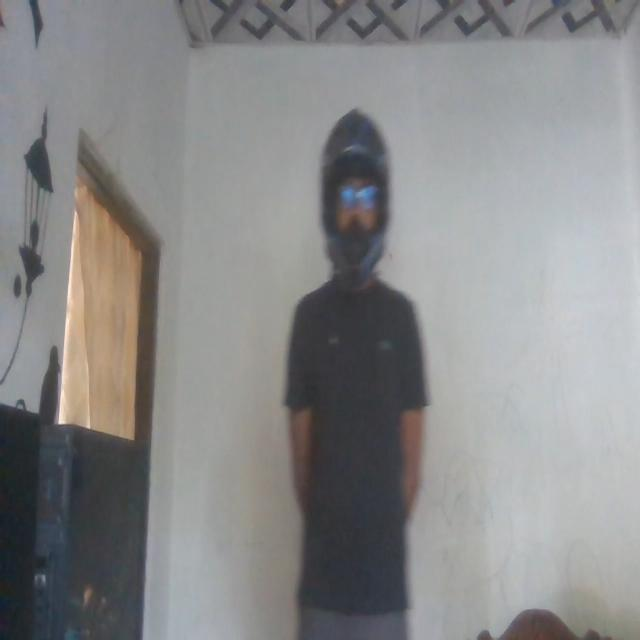Helmet_Wearer: (312, 107, 397, 306)
Person: (276, 105, 426, 640)
